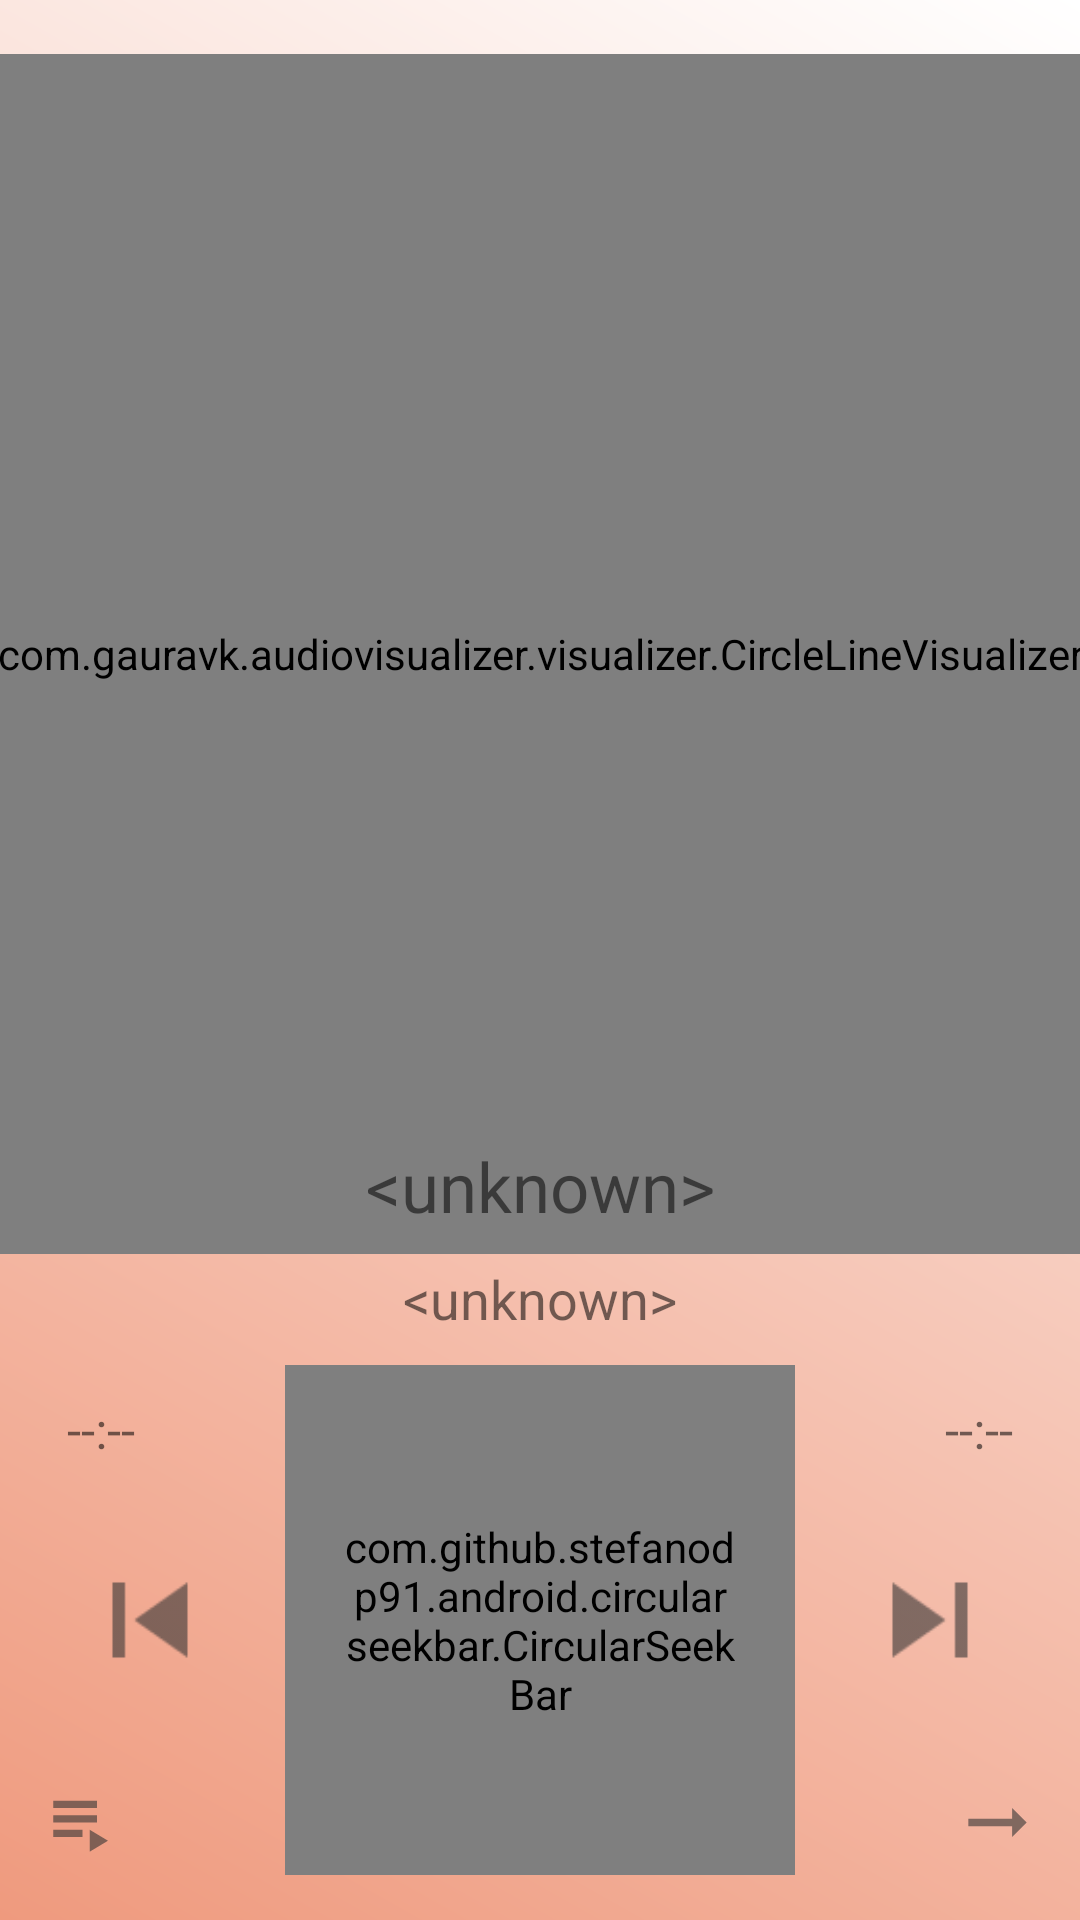

Where icons sit on this 1080 × 1920 app screen, as (left=x1, top=y1, right=x2, bottom=y2):
Next: (left=892, top=1582, right=968, bottom=1658)
Playlist: (left=53, top=1800, right=108, bottom=1852)
Previous: (left=112, top=1582, right=188, bottom=1658)
